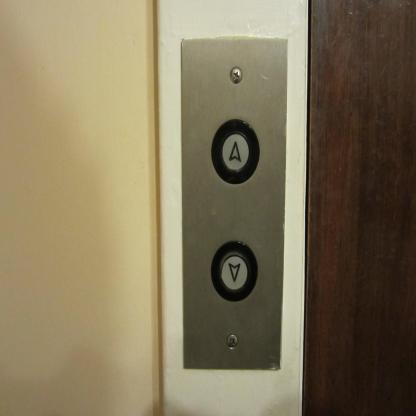down: (209, 238, 259, 304)
up: (209, 115, 261, 187)
